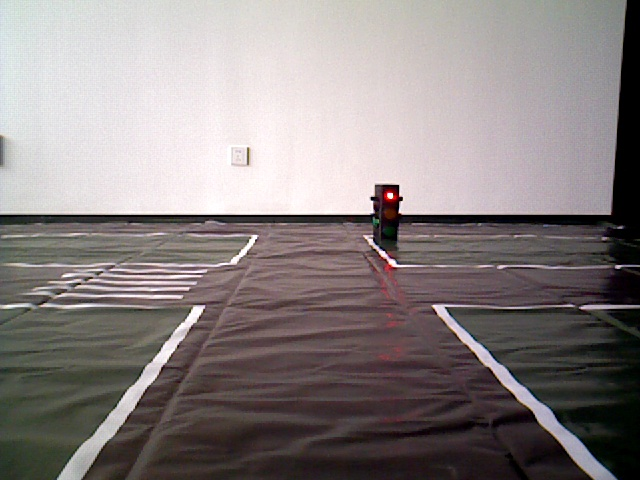red: (372, 184, 398, 244)
